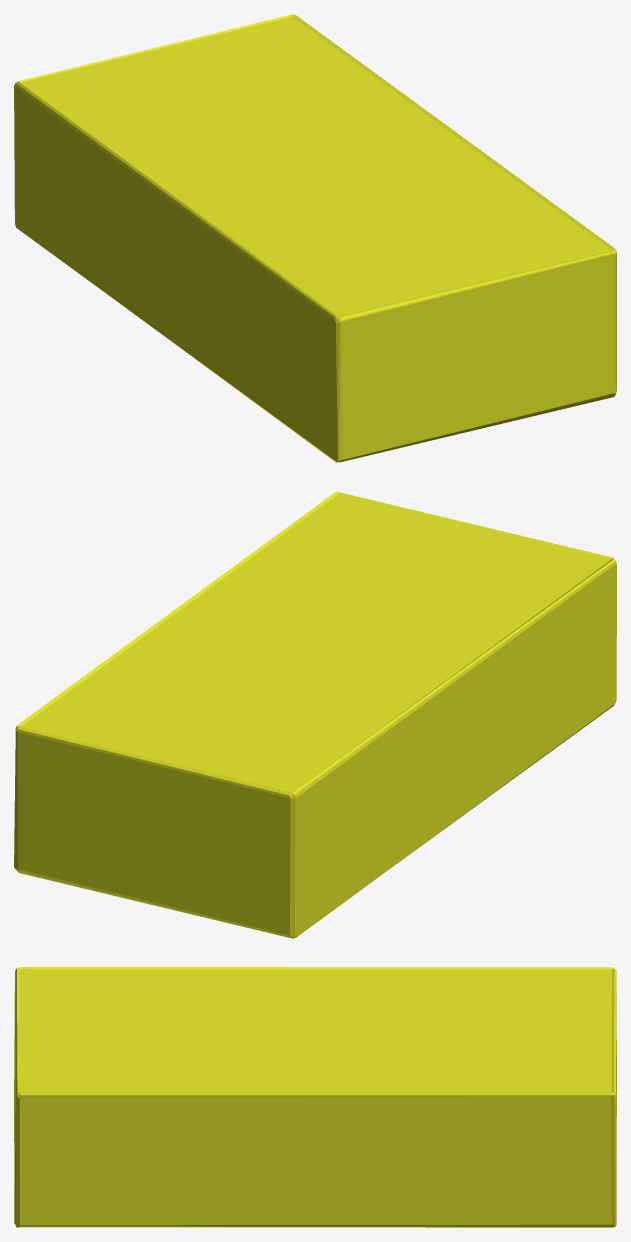
The model's file is foamBlock_yellow.fbx.
3 views of the same model, one above another, from view 1: azimuth 30°, elevation 25°; view 2: azimuth 150°, elevation 25°; view 3: azimuth 270°, elevation 25° (orthographic). The views are drawn at different scales.
Parts seen in each view (by area): view 1: Cube; view 2: Cube; view 3: Cube.
Boxes of the visible parts, <box> form: Cube: <box>14,14,616,462</box>; Cube: <box>14,491,616,938</box>; Cube: <box>14,967,616,1227</box>.
Size of the model in its own units: 201 by 100 by 401.
